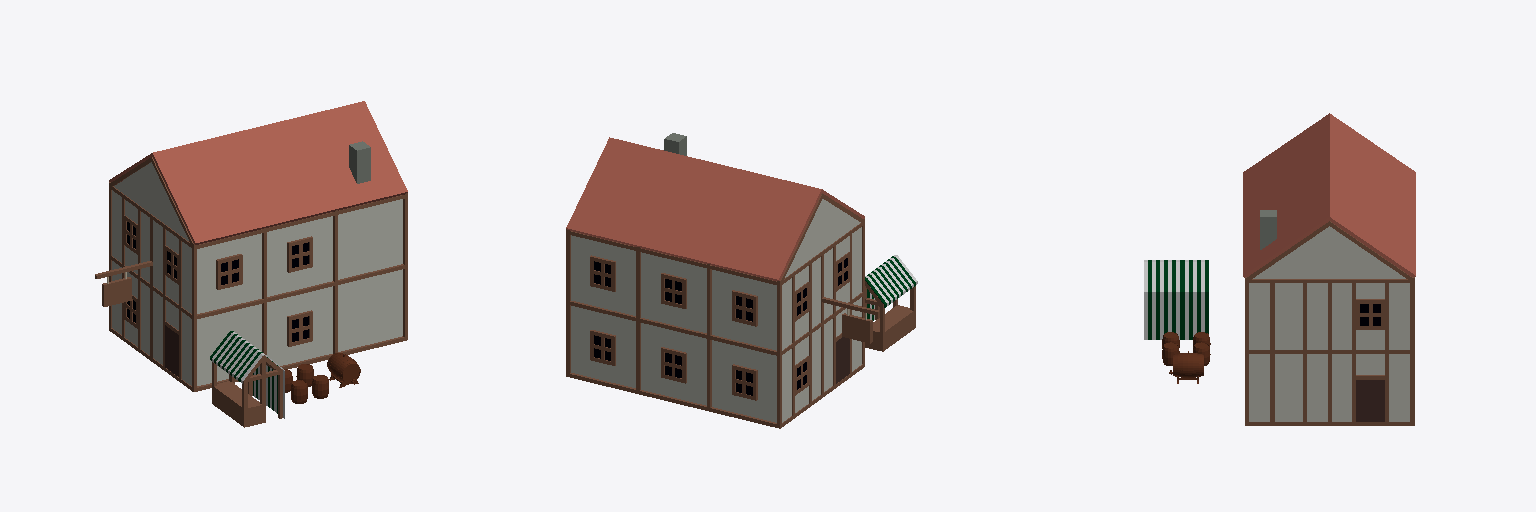
Rendered from timberframedvintner_green_white.obj.
3 views of the same model, side by side, from view 1: azimuth 30°, elevation 25°; view 2: azimuth 150°, elevation 25°; view 3: azimuth 270°, elevation 25° (orthographic).
Visible parts, largest first — view 1: Cube.005, Cube.007_Cube.011, Cube.011_Cube.015, Cube.018_Cube.016, Cube.056_Cube.081, barrel_Untitled, Cube.001_Cube.058, Cube.013_Cube.080, Cube.006_Cube.010, Cube.026_Cube.019, Cube.073_Cube.078, Cube.012_Cube.017 (+6 smaller); view 2: Cube.005, Cube.007_Cube.011, Cube.023_Cube.026, Cube.022_Cube.025, Cube.021_Cube.024, Cube.015_Cube.020, Cube.019_Cube.022, Cube.017_Cube.021, Cube.014_Cube.018, Cube.008, Cube.020_Cube.023, Cube.073_Cube.078 (+6 smaller); view 3: Cube.005, Cube.007_Cube.011, Cube.147_Cube.153, Cube.003, Cube.033, barrel_Untitled, Cube.027, Cube.047_Cube.049, Cube.031, Cube.006_Cube.010, Cube.016_Cube.013, Cube.012_Cube.017 (+5 smaller).
Boxes of the visible parts, <box> form: Cube.005: <box>112,162,402,385</box>; Cube.007_Cube.011: <box>109,101,407,244</box>; Cube.011_Cube.015: <box>195,264,406,319</box>; Cube.018_Cube.016: <box>195,195,406,249</box>; Cube.056_Cube.081: <box>216,254,242,289</box>; barrel_Untitled: <box>327,353,360,387</box>; Cube.001_Cube.058: <box>287,310,312,346</box>; Cube.013_Cube.080: <box>287,236,312,272</box>; Cube.006_Cube.010: <box>349,141,370,183</box>; Cube.026_Cube.019: <box>192,243,196,391</box>; Cube.073_Cube.078: <box>102,277,131,306</box>; Cube.012_Cube.017: <box>403,193,407,339</box>; Cube.005: <box>571,199,861,422</box>; Cube.007_Cube.011: <box>566,137,864,280</box>; Cube.023_Cube.026: <box>567,373,776,427</box>; Cube.022_Cube.025: <box>567,301,777,355</box>; Cube.021_Cube.024: <box>570,231,776,284</box>; Cube.015_Cube.020: <box>732,290,757,326</box>; Cube.019_Cube.022: <box>661,347,686,383</box>; Cube.017_Cube.021: <box>590,330,615,365</box>; Cube.014_Cube.018: <box>661,273,686,308</box>; Cube.008: <box>590,255,615,291</box>; Cube.020_Cube.023: <box>732,364,757,400</box>; Cube.073_Cube.078: <box>842,313,872,343</box>; Cube.005: <box>1249,226,1409,421</box>; Cube.007_Cube.011: <box>1243,113,1415,277</box>; Cube.147_Cube.153: <box>1144,292,1208,339</box>; Cube.003: <box>1356,380,1384,421</box>; Cube.033: <box>1356,299,1384,329</box>; barrel_Untitled: <box>1169,351,1203,383</box>; Cube.027: <box>1410,277,1414,425</box>; Cube.047_Cube.049: <box>1270,279,1274,423</box>; Cube.031: <box>1249,422,1410,425</box>; Cube.006_Cube.010: <box>1260,210,1276,249</box>; Cube.016_Cube.013: <box>1248,350,1409,353</box>; Cube.012_Cube.017: <box>1245,277,1248,425</box>.
Bounding box in the file's own units: 15.3 × 11.25 × 13.34.